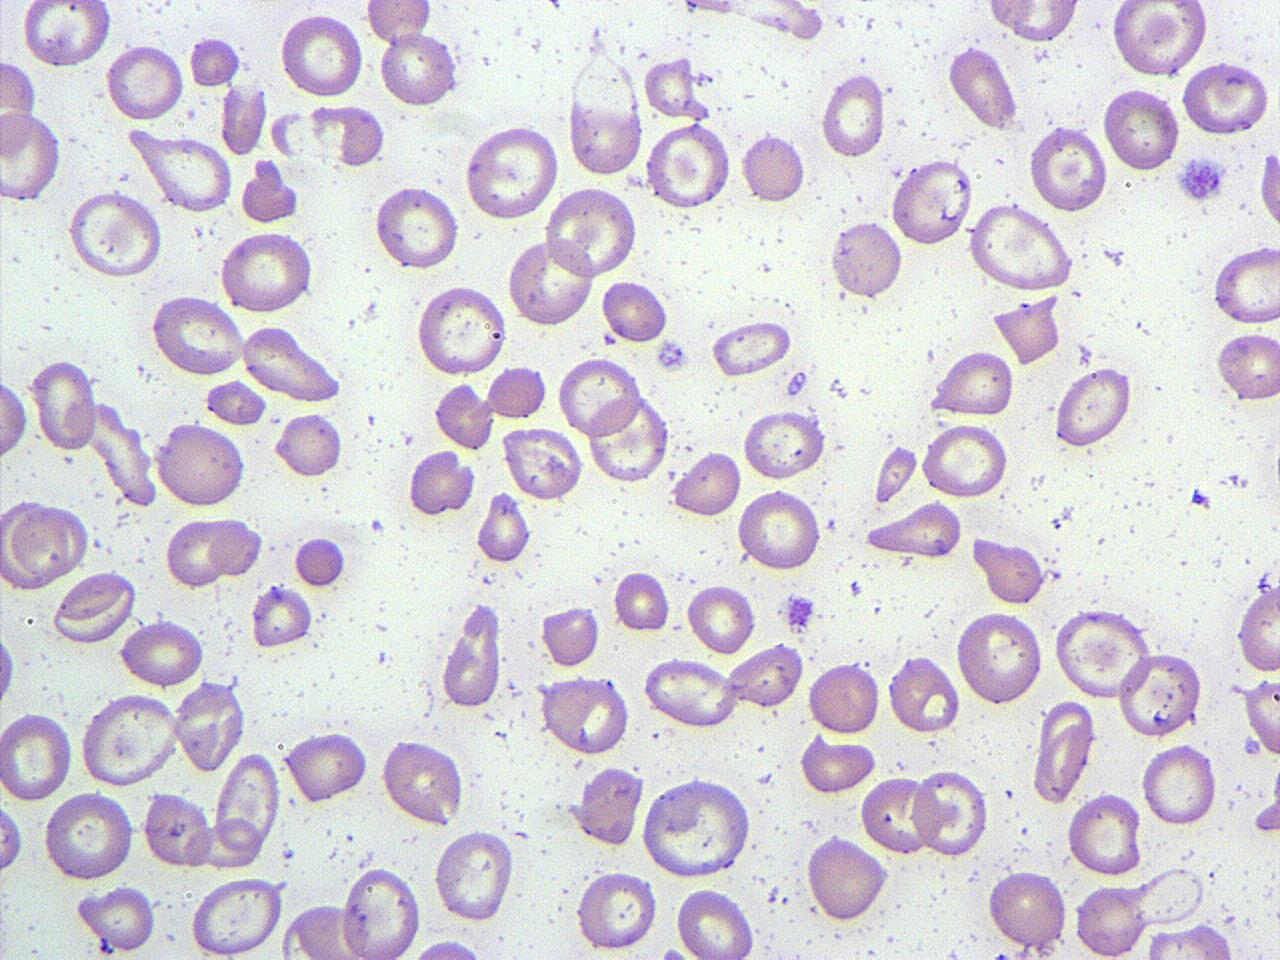Platelets: (726, 0, 822, 38), (1174, 154, 1224, 203), (654, 337, 692, 374), (784, 592, 816, 632), (1252, 802, 1280, 836), (786, 369, 810, 400), (1254, 568, 1278, 593), (1190, 487, 1214, 511), (1101, 243, 1127, 263), (1241, 733, 1261, 757), (828, 374, 848, 397), (370, 516, 385, 534), (1032, 47, 1048, 63), (993, 946, 1011, 960)
RBC: (640, 774, 751, 880), (966, 201, 1076, 292), (79, 690, 181, 788), (1052, 606, 1154, 702), (464, 122, 562, 221), (954, 606, 1044, 708), (41, 788, 136, 884), (543, 184, 639, 278), (416, 282, 509, 378), (65, 189, 165, 278), (505, 234, 597, 328), (136, 129, 236, 214), (218, 228, 314, 316), (586, 388, 672, 486), (643, 119, 733, 212), (189, 873, 286, 959), (148, 293, 246, 378), (240, 322, 344, 402), (155, 419, 247, 509), (372, 182, 462, 273), (1116, 648, 1204, 740), (432, 828, 515, 924), (279, 9, 365, 101), (538, 672, 632, 756), (890, 154, 974, 248), (339, 864, 421, 960), (1108, 1, 1210, 78), (736, 484, 822, 574), (380, 736, 464, 828), (212, 749, 282, 858), (641, 656, 743, 730), (1028, 122, 1110, 214), (805, 833, 888, 923), (1179, 58, 1271, 138), (557, 354, 641, 440), (574, 867, 658, 953), (910, 768, 990, 858), (1138, 738, 1218, 828), (438, 600, 502, 710), (0, 707, 74, 802), (920, 420, 1010, 498), (1103, 83, 1181, 173), (175, 676, 247, 773), (1054, 363, 1134, 450), (377, 27, 459, 110), (1031, 701, 1097, 803), (987, 867, 1069, 949), (50, 570, 140, 644), (105, 41, 185, 124), (501, 423, 586, 501), (1066, 790, 1142, 877), (31, 356, 99, 452), (828, 216, 905, 300), (284, 728, 368, 804), (886, 652, 962, 736), (863, 498, 964, 561), (572, 762, 644, 850), (946, 43, 1018, 130), (567, 93, 641, 177), (20, 0, 111, 68), (118, 618, 206, 688), (860, 773, 936, 854), (674, 884, 757, 958), (740, 407, 824, 480), (820, 69, 886, 160), (0, 499, 63, 594), (1211, 240, 1279, 328), (1072, 880, 1148, 957), (932, 348, 1014, 419), (0, 110, 62, 201), (807, 660, 881, 736), (79, 882, 157, 954), (142, 790, 212, 870), (20, 501, 89, 582), (277, 900, 369, 960), (686, 582, 757, 658), (671, 448, 743, 520), (728, 641, 804, 709), (164, 516, 234, 588), (992, 295, 1065, 363), (739, 131, 807, 203), (1215, 328, 1279, 404), (405, 448, 474, 518), (600, 277, 670, 346), (712, 318, 792, 378), (274, 410, 342, 480), (800, 733, 876, 795), (977, 536, 1044, 606), (239, 157, 302, 226), (434, 378, 494, 450), (986, 0, 1083, 44), (249, 583, 313, 648), (1135, 920, 1243, 958), (475, 490, 532, 562), (541, 602, 602, 669), (1137, 866, 1205, 926), (1236, 582, 1280, 674), (0, 57, 40, 158), (612, 568, 672, 634), (206, 515, 264, 582), (202, 814, 267, 870), (1242, 670, 1280, 764), (219, 82, 267, 156), (642, 54, 696, 117), (487, 363, 547, 418), (364, 0, 434, 45), (205, 378, 269, 427), (188, 33, 242, 90), (292, 534, 346, 590), (873, 442, 920, 504), (0, 373, 29, 464), (0, 789, 25, 885), (1255, 140, 1279, 234), (0, 615, 17, 716)
WBC: (642, 777, 754, 881), (63, 185, 161, 279)
